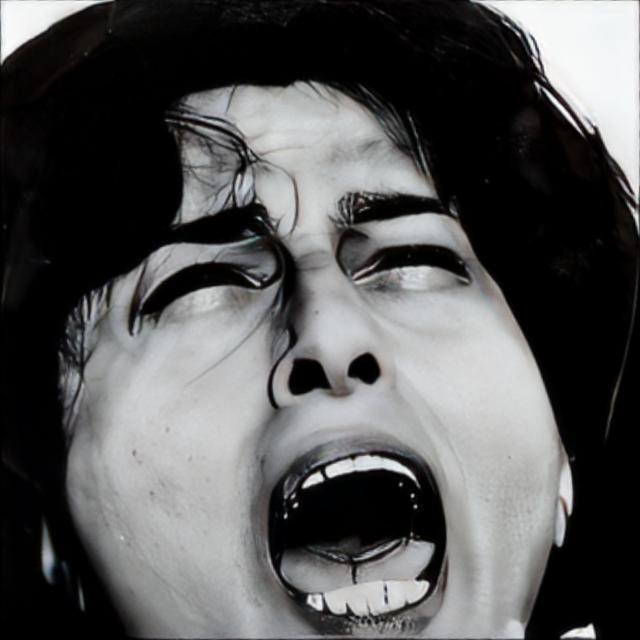fear: (63, 77, 564, 640)
